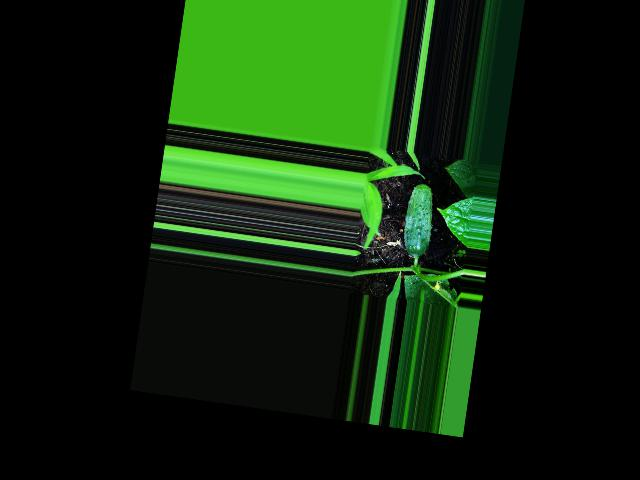cucumber: (399, 181, 437, 258)
